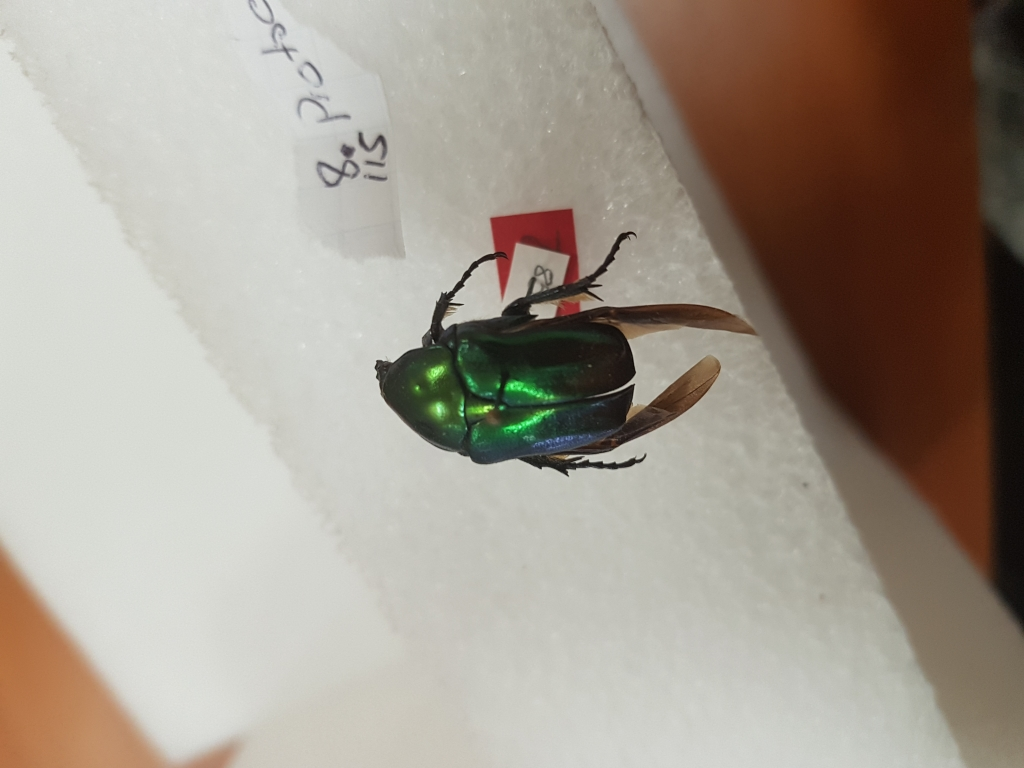Protaetia_besucheti: (369, 238, 762, 481)
